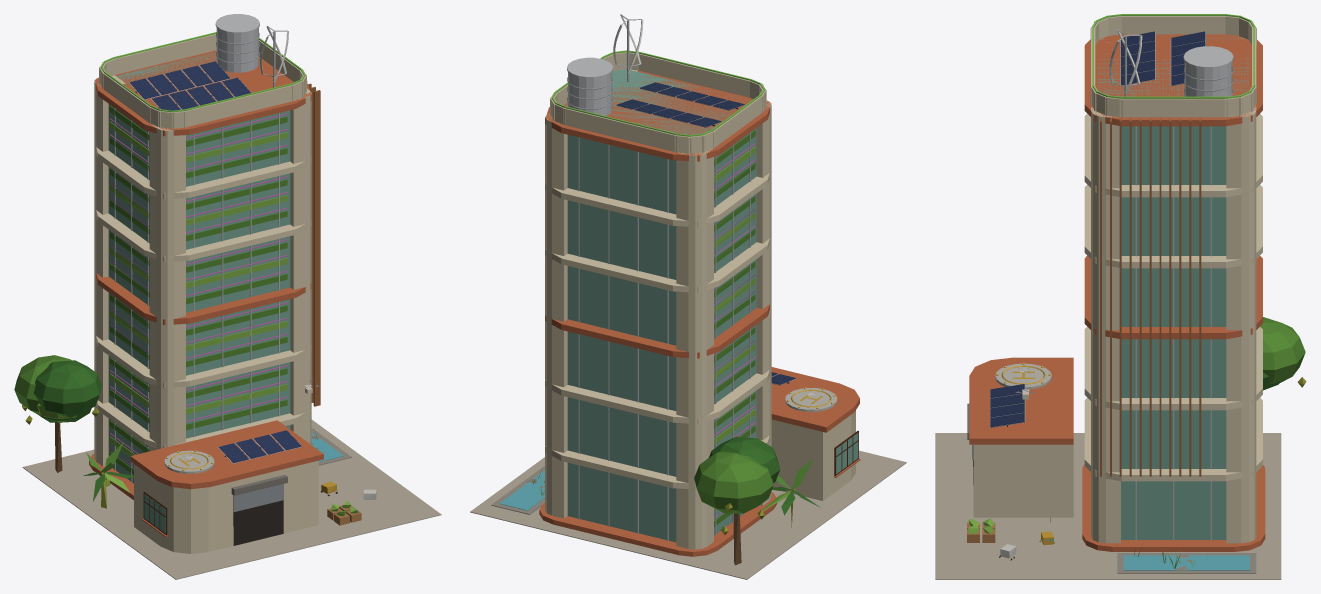
File: factory_2.glb
3 renders of one model, left to right at view 1: azimuth 30°, elevation 25°; view 2: azimuth 150°, elevation 25°; view 3: azimuth 270°, elevation 25°, orthographic. The views are drawn at different scales.
Visible parts, largest first — view 1: body, windows; view 2: body, windows; view 3: body, windows.
Part boxes in pixels (box(x1,y1,x2,y2)): body: box(14, 14, 441, 579); windows: box(100, 32, 305, 545); body: box(470, 14, 906, 579); windows: box(551, 50, 835, 408); body: box(935, 16, 1306, 579); windows: box(973, 14, 1255, 541).
Bounding box in the file's own units: 16.83 × 25.36 × 17.05.
